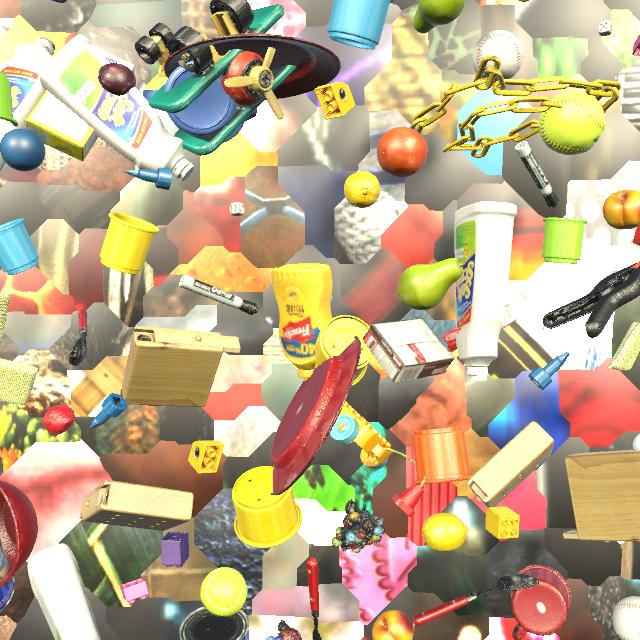ycb_002_master_chef_can: (179, 607, 249, 640), (0, 540, 15, 613)
ycb_003_cracker_box: (633, 225, 640, 245)
ycb_004_sugar_box: (24, 45, 135, 161)
ycb_006_mustard_bottle: (271, 264, 335, 381)
ycb_008_pudding_box: (363, 318, 454, 383)
ycb_009_gelatin_box: (442, 304, 516, 351)
ycb_012_strawberry: (42, 405, 75, 435)
ycb_014_lemon: (421, 513, 468, 552), (344, 171, 380, 208)
ycb_015_peach: (603, 189, 640, 229), (372, 610, 414, 640)
ycb_016_pear: (397, 258, 463, 310), (413, 0, 466, 34)
ycb_017_orange: (377, 127, 427, 178)
ycb_018_plum: (98, 63, 136, 96)
